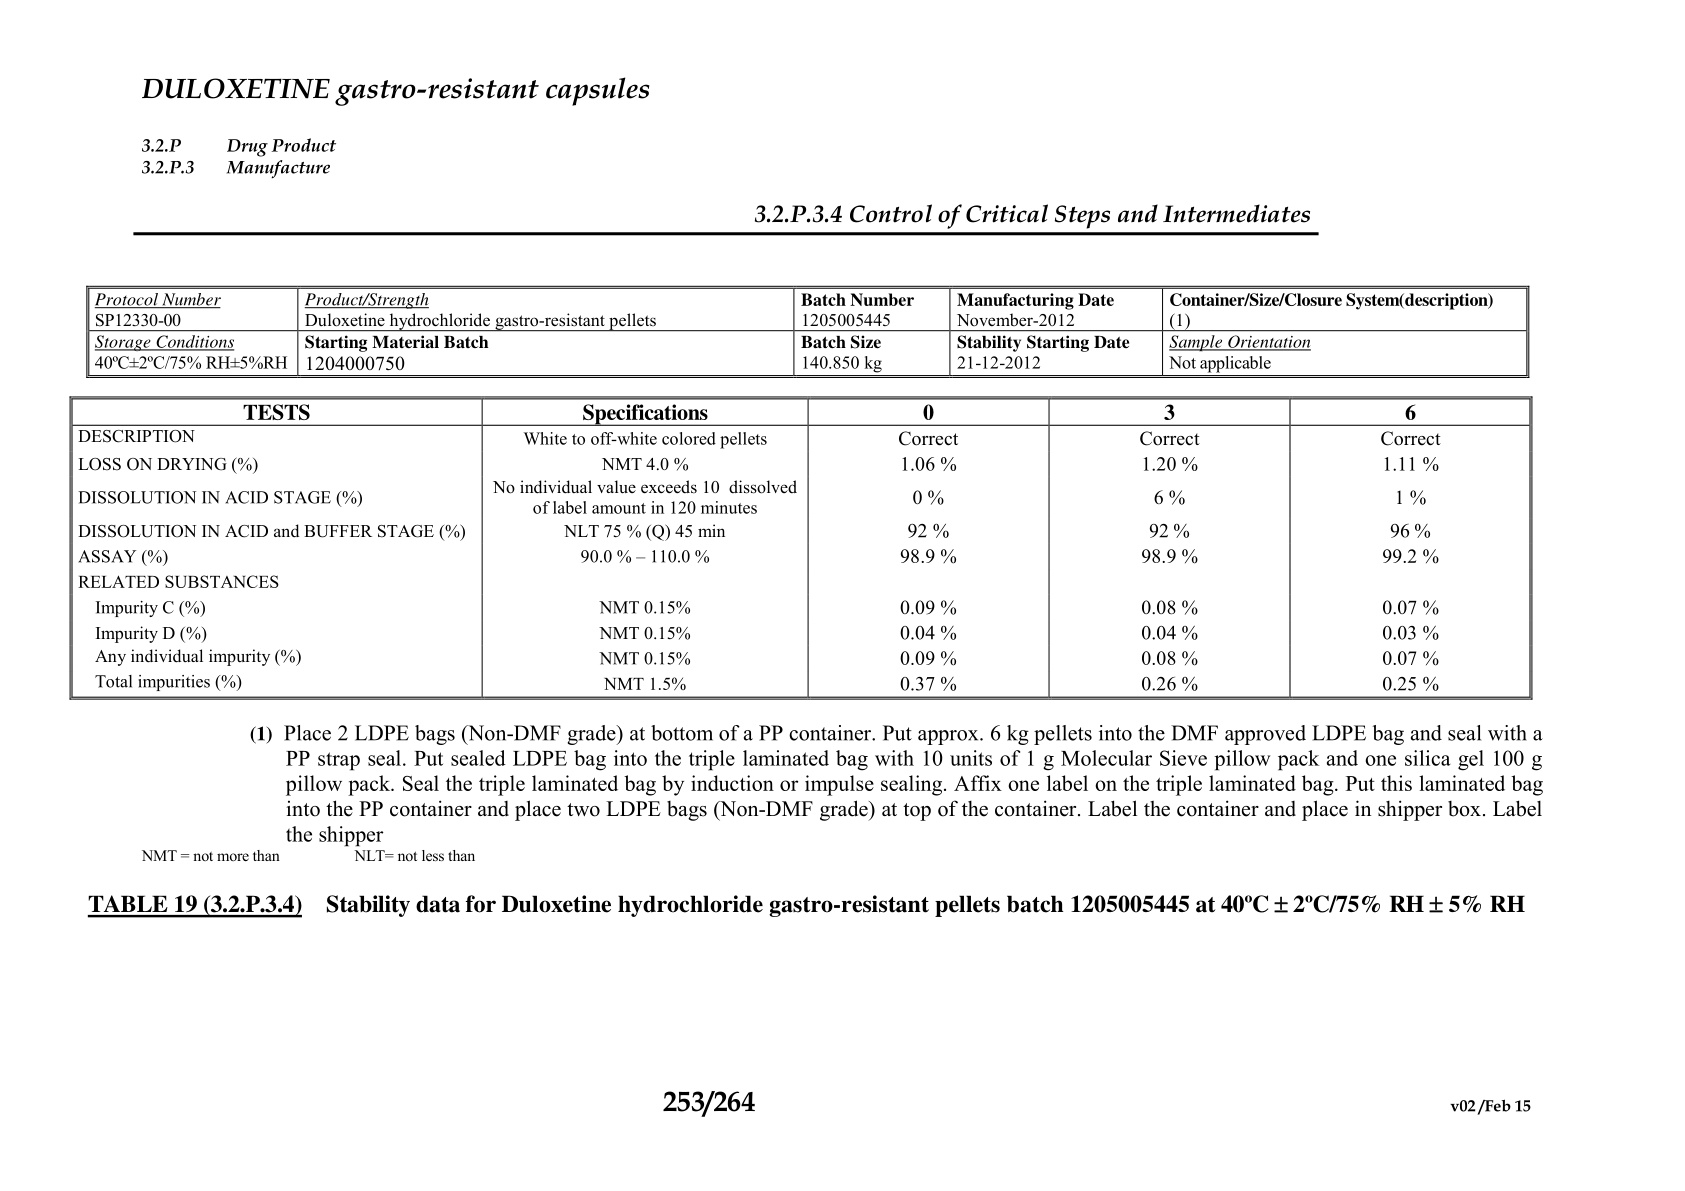full_lined: (86, 285, 1530, 379)
partial_lined: (68, 394, 1533, 701)
